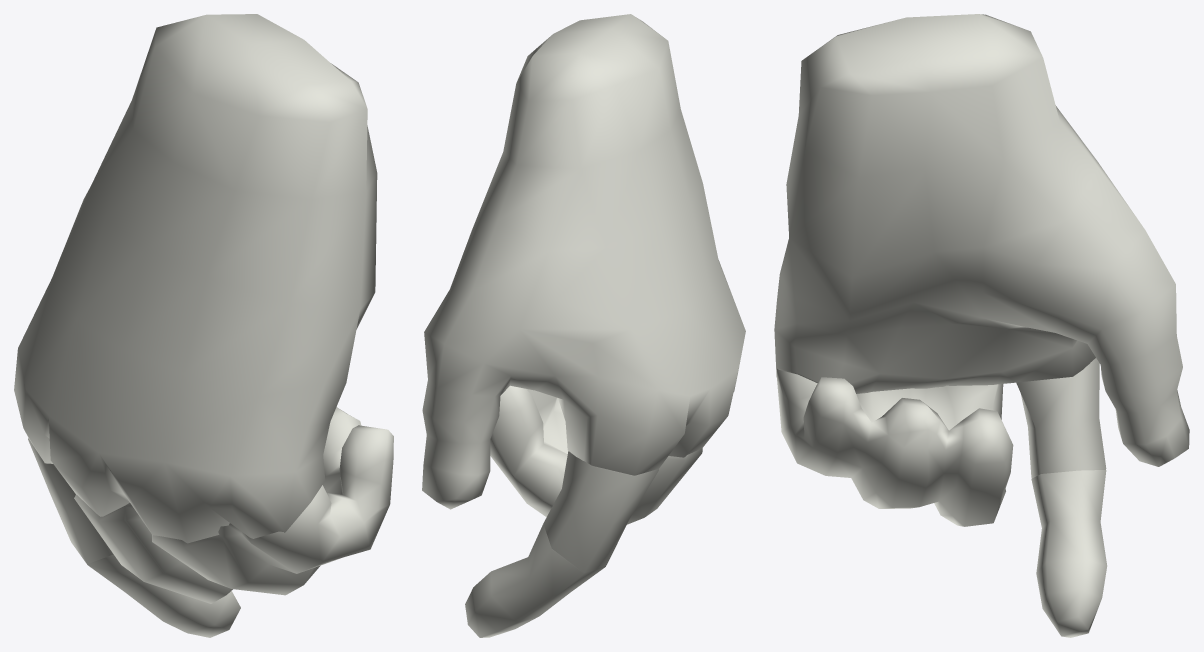
File: handdown.fbx
The picture shows the model from 3 angles, left to right: view 1: azimuth 30°, elevation 25°; view 2: azimuth 150°, elevation 25°; view 3: azimuth 270°, elevation 25°; orthographic projection. The views are drawn at different scales.
Parts seen in each view (by area): view 1: node_id46, node_id44, node_id40, node_id42; view 2: node_id46, node_id44, node_id42, node_id40; view 3: node_id46, node_id44, node_id40, node_id42.
Boxes of the visible parts, bbox=[...] form: node_id46: bbox=[14, 14, 377, 543]; node_id44: bbox=[74, 407, 393, 603]; node_id40: bbox=[71, 542, 240, 637]; node_id42: bbox=[28, 438, 113, 563]; node_id46: bbox=[422, 14, 745, 509]; node_id44: bbox=[490, 385, 702, 524]; node_id42: bbox=[543, 451, 658, 572]; node_id40: bbox=[465, 524, 605, 637]; node_id46: bbox=[774, 14, 1189, 466]; node_id44: bbox=[777, 368, 1013, 526]; node_id40: bbox=[1031, 470, 1107, 637]; node_id42: bbox=[1016, 358, 1106, 478].
Bounding box in the file's own units: 0.2226 × 0.512 × 0.3212.
Materials: 4 (4 with a texture image).
